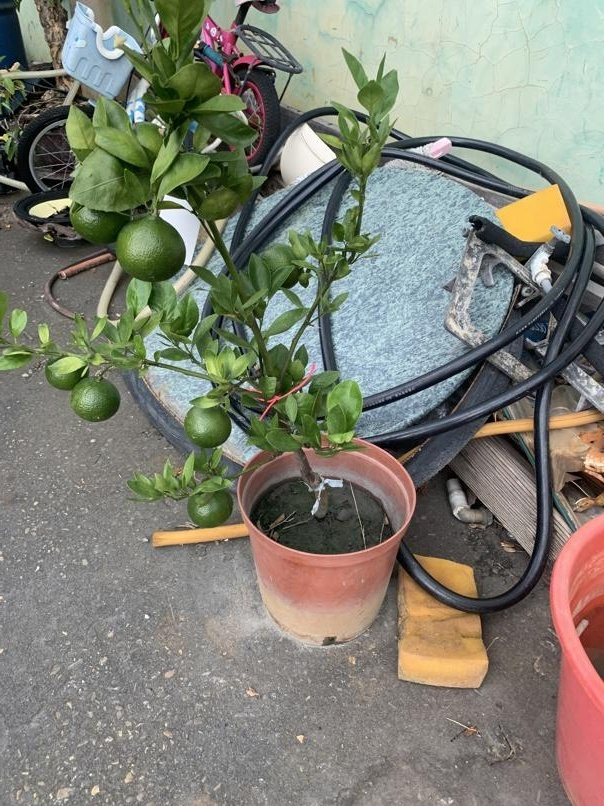Tangerine: (113, 209, 187, 279), (71, 374, 121, 425), (184, 400, 232, 450), (186, 488, 233, 528)
